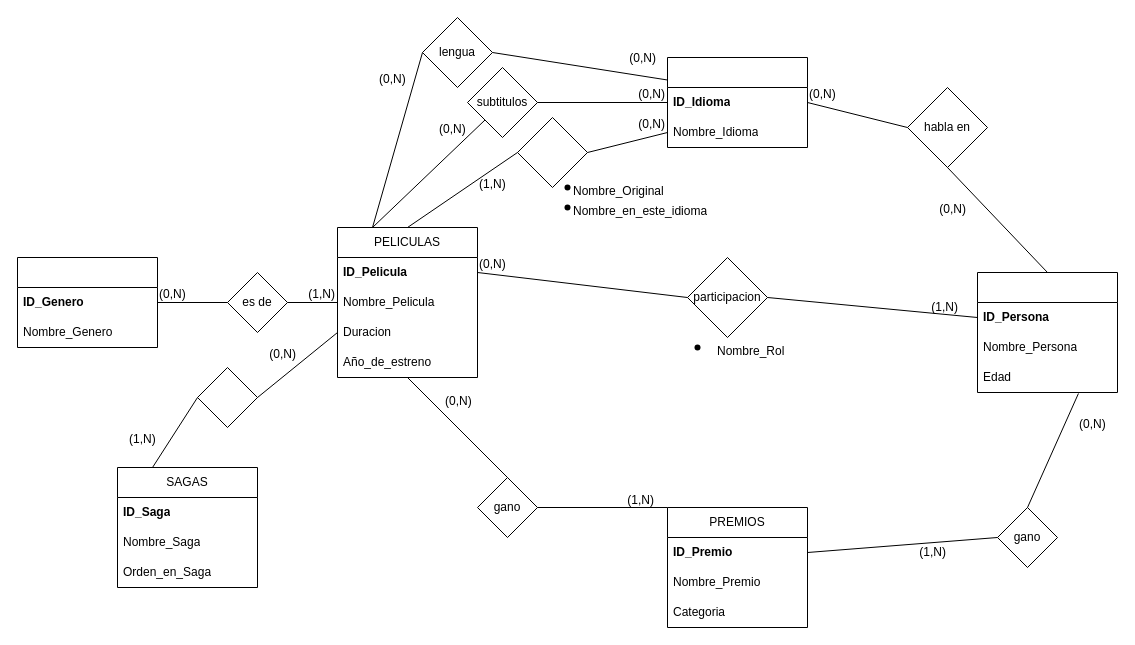
Some shapes in this 1135 by 645 pixel diagram are drawn without their labels. Each missing label, with the box of its shape:
forma parte: (196, 366, 258, 428)
GENEROS: (16, 256, 158, 348)
IDIOMAS: (666, 56, 808, 148)
PERSONAS: (976, 272, 1118, 392)
titulos: (516, 116, 588, 188)
